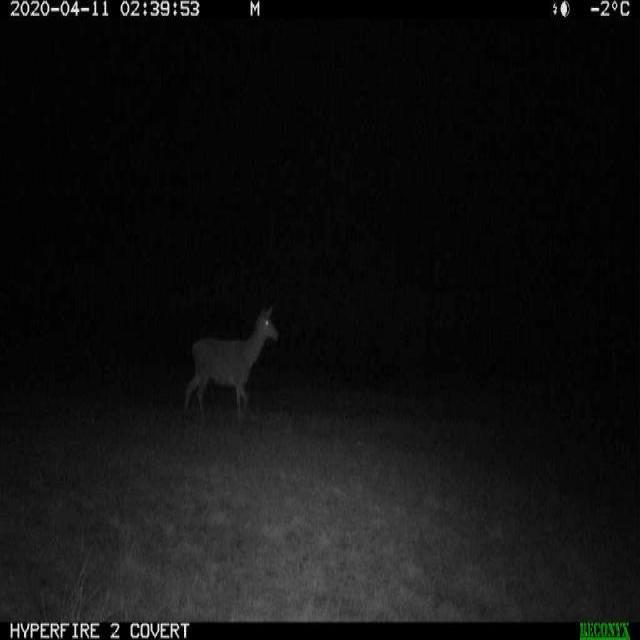deer: (186, 291, 284, 434)
